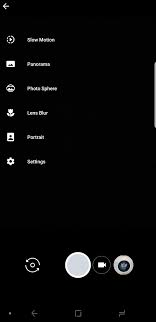camera: (63, 249, 91, 282)
